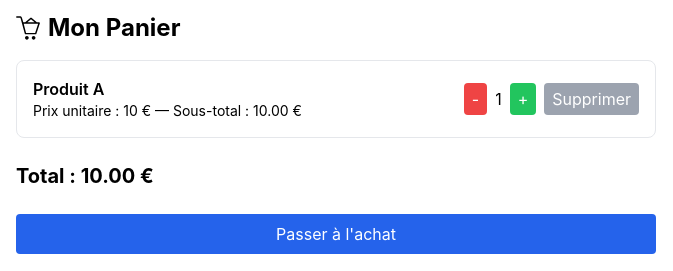
Scenario: PanierPage › incrémente la quantité d’un produit
This screenshot has width=673, height=271.
Step 1. Click the button "+" → (523, 99), box [510, 83, 536, 115]
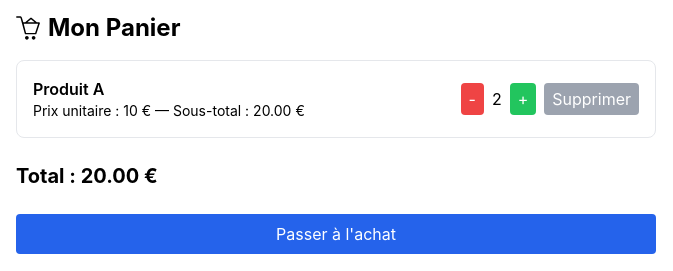
Expected: the text "2" is shown, [492, 87, 502, 111]
Expected: the heading "Total : 20.00 €" is shown, [16, 164, 158, 188]
